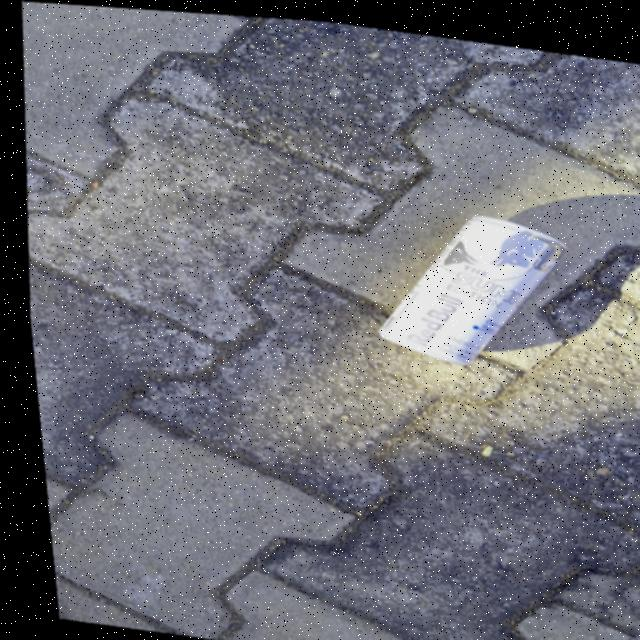Redbull Summer Edition: (360, 194, 591, 371)
